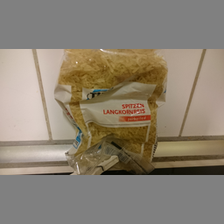rice: (52, 48, 168, 174)
